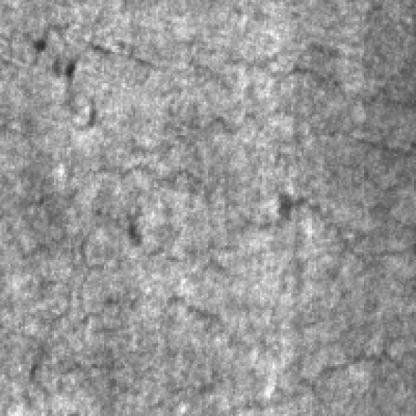crazing: (10, 152, 240, 393), (154, 35, 412, 148)
